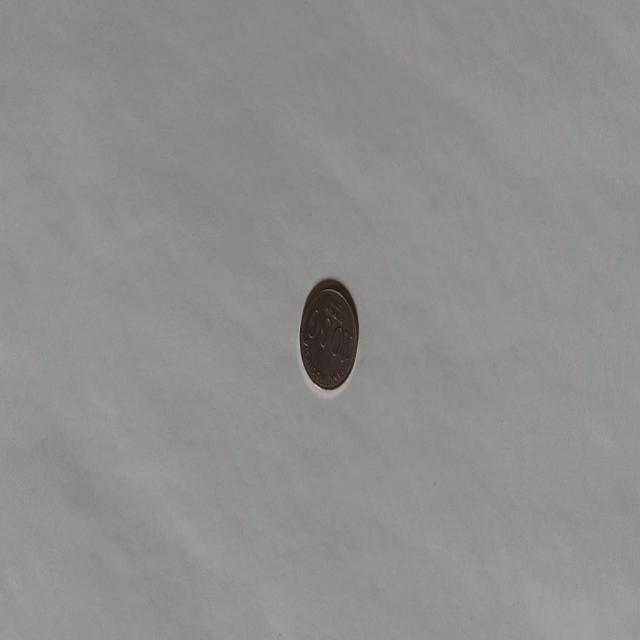seribu rupiah koin: (297, 277, 358, 392)
